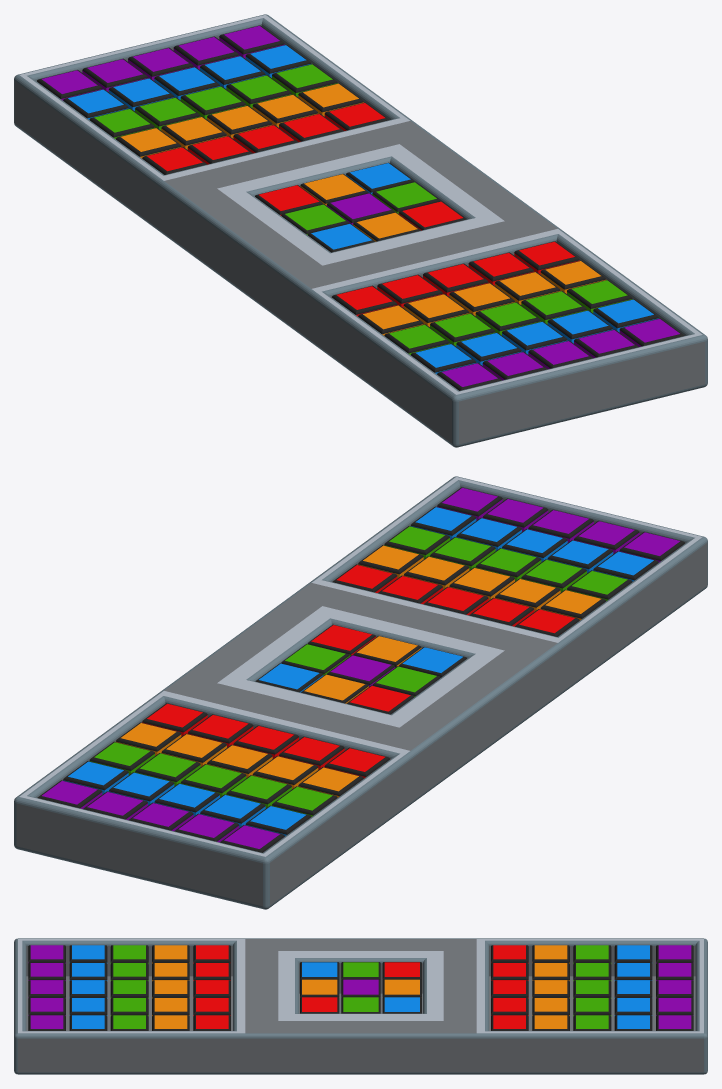
Rendered from base_and_cubes.fbx.
The picture shows the model from 3 angles, top to bottom: view 1: azimuth 30°, elevation 25°; view 2: azimuth 150°, elevation 25°; view 3: azimuth 270°, elevation 25°; orthographic projection. The views are drawn at different scales.
Visible parts, largest first — view 1: base, big cube.025, big cube.004, big cube.016, big cube.028, big cube.029, small cube.007, big cube.003, big cube.011, big cube.012, big cube.015, big cube.018 (+48 smaller); view 2: base, big cube.016, big cube.025, big cube.031, big cube.034, big cube.039, small cube.007, big cube.005, big cube.011, big cube.012, big cube.013, big cube.017 (+48 smaller); view 3: base, big cube.019, big cube.022, big cube.029, big cube.031, big cube.030, big cube.032, small cube.004, small cube.005, big cube.018, big cube.020, big cube.021 (+48 smaller).
Part boxes in pixels (<box>): base: <box>14,14,707,447</box>; big cube.025: <box>521,291,586,324</box>; big cube.004: <box>180,86,246,119</box>; big cube.016: <box>226,75,291,108</box>; big cube.028: <box>252,94,318,127</box>; big cube.029: <box>108,78,174,110</box>; small cube.007: <box>372,182,440,213</box>; big cube.003: <box>128,47,193,80</box>; big cube.011: <box>502,321,567,354</box>; big cube.012: <box>449,282,514,315</box>; big cube.015: <box>173,36,239,69</box>; big cube.018: <box>82,58,147,91</box>; base: <box>14,476,707,909</box>; big cube.016: <box>135,753,200,786</box>; big cube.025: <box>430,537,495,570</box>; big cube.031: <box>547,540,613,572</box>; big cube.034: <box>403,556,469,589</box>; big cube.039: <box>475,548,541,581</box>; small cube.007: <box>281,644,349,675</box>; big cube.005: <box>233,725,298,758</box>; big cube.011: <box>502,529,567,561</box>; big cube.012: <box>449,567,514,600</box>; big cube.013: <box>410,506,476,539</box>; big cube.017: <box>187,714,253,747</box>; base: <box>14,938,707,1074</box>; big cube.019: <box>573,962,611,981</box>; big cube.022: <box>110,962,148,981</box>; big cube.029: <box>614,962,652,981</box>; big cube.031: <box>69,962,107,981</box>; big cube.030: <box>532,962,569,981</box>; big cube.032: <box>152,962,189,981</box>; small cube.004: <box>382,979,421,997</box>; small cube.005: <box>300,979,339,997</box>; big cube.018: <box>656,962,693,980</box>; big cube.020: <box>491,962,528,980</box>; big cube.021: <box>28,962,65,980</box>.
Size of the model in its own units: 200 by 39.09 by 600.
